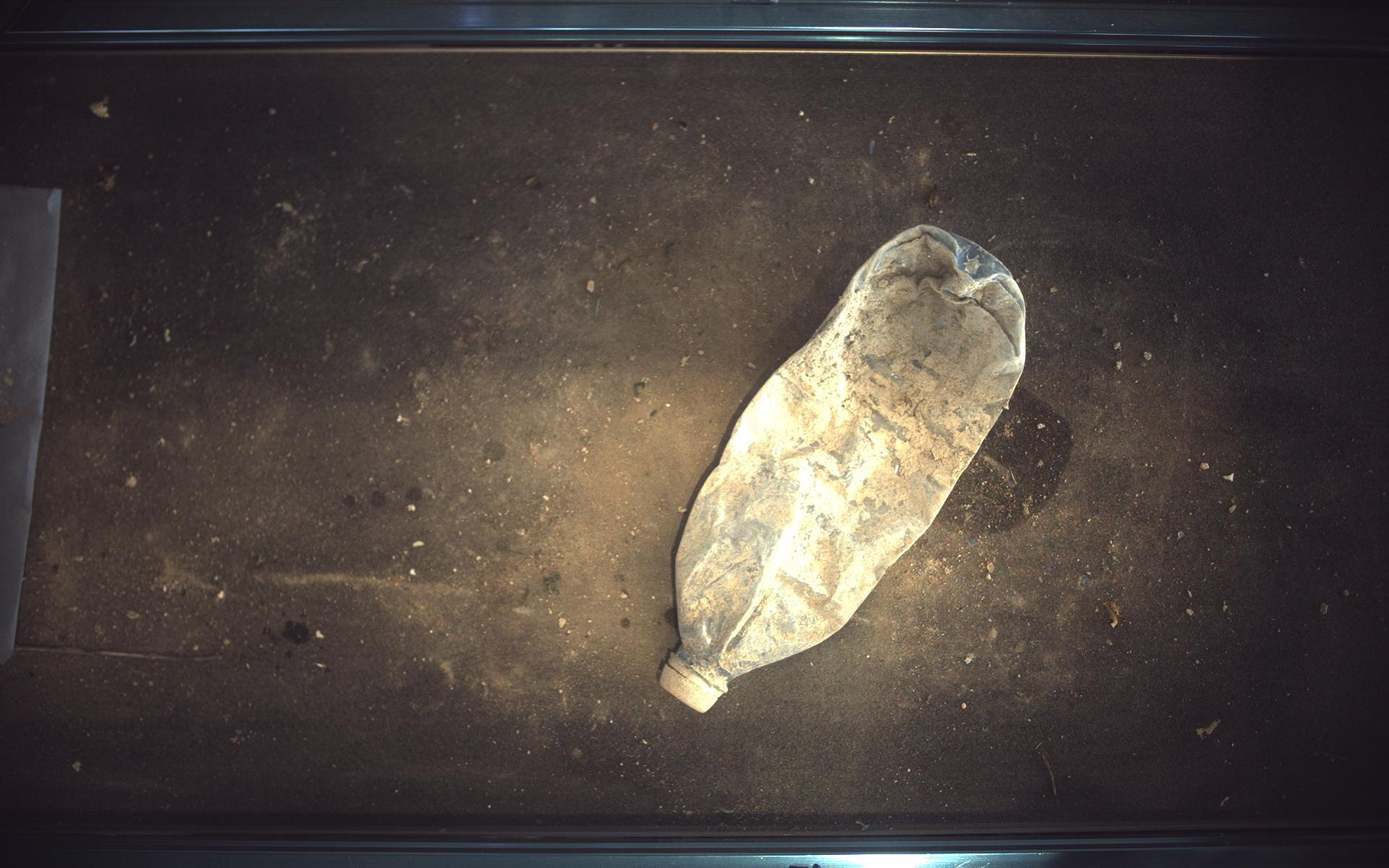general_w: (660, 224, 1027, 714)
